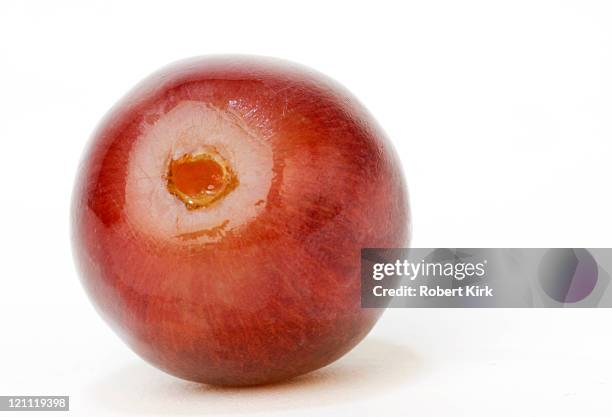grapes: (59, 64, 459, 411)
